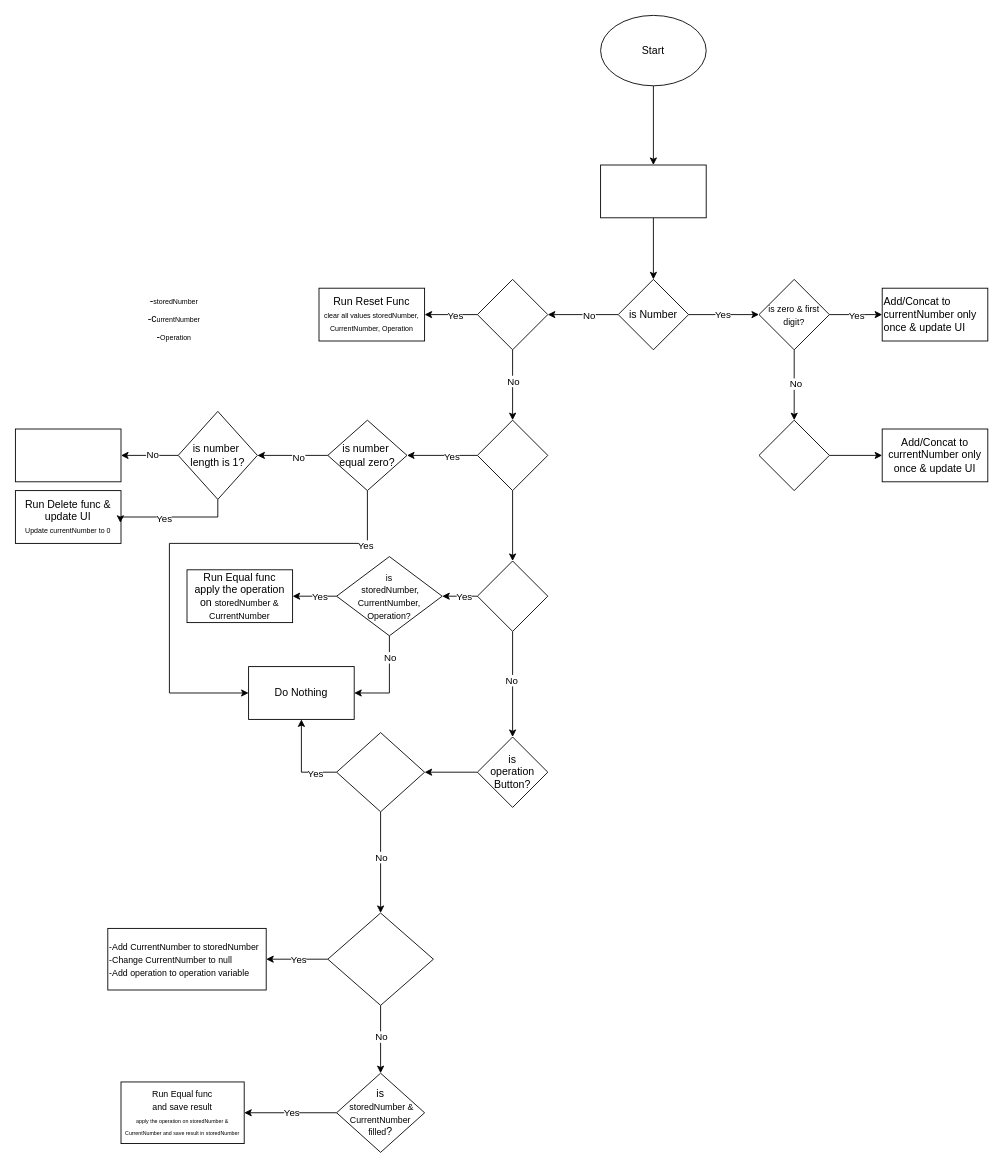
This 1003x1168 diagram has some shape labels left out. Each missing label, with the box of its shape:
Click Button: (600, 164, 706, 218)
is Delete Button?: (477, 419, 548, 491)
is Equal Button?: (477, 560, 548, 631)
is Reset Button?: (477, 279, 548, 350)
is storedNumber & CurrentNumber empty ?: (336, 732, 425, 812)
is storedNumber empty & CurrentNumber filled ?: (327, 912, 433, 1005)
is.?: (758, 419, 829, 491)
Run Delete func & update UI Delete last digit from currentNumber: (15, 428, 121, 482)
